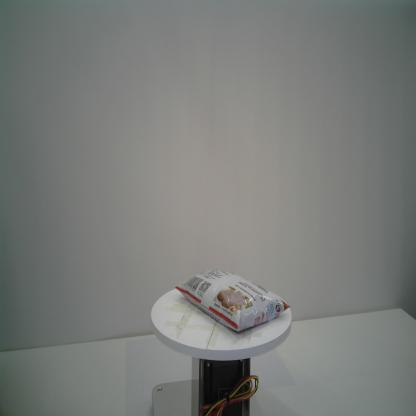Seasoner: (175, 268, 290, 332)
